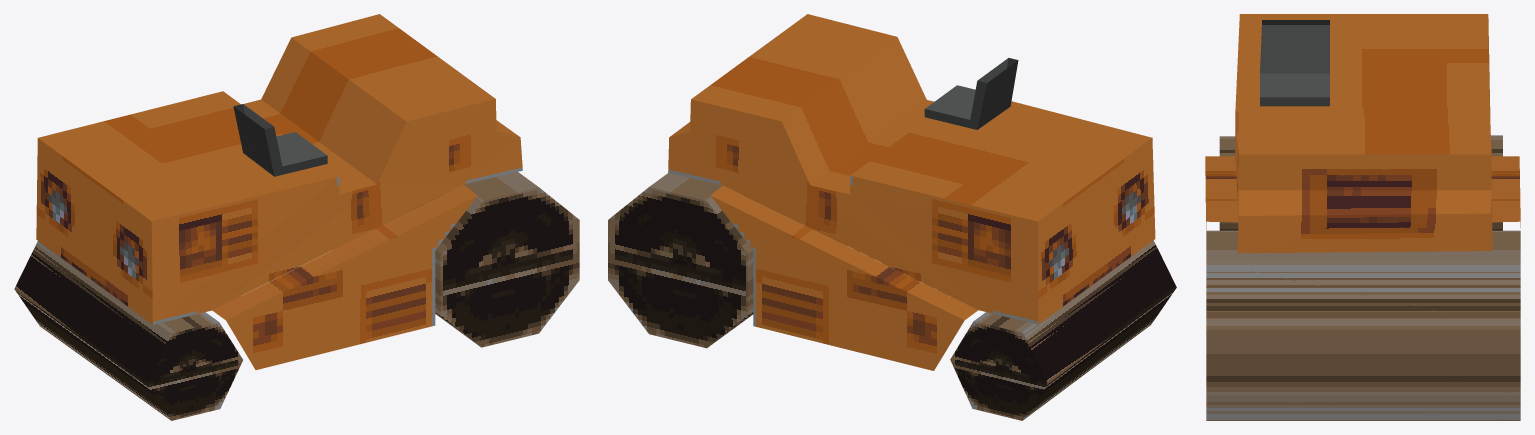
The picture shows the model from 3 angles, left to right: view 1: azimuth 30°, elevation 25°; view 2: azimuth 150°, elevation 25°; view 3: azimuth 270°, elevation 25°; orthographic projection. The views are drawn at different scales.
Visible parts, largest first — view 1: obj-194; view 2: obj-194; view 3: obj-194.
Part boxes in pixels (left/top/right/bottom): obj-194: left=14, top=14, right=579, bottom=420; obj-194: left=608, top=14, right=1176, bottom=420; obj-194: left=1205, top=14, right=1520, bottom=420.
Size of the model in its own units: 0.4736 by 0.2637 by 0.2764.
Materials: 7 (1 with a texture image).
